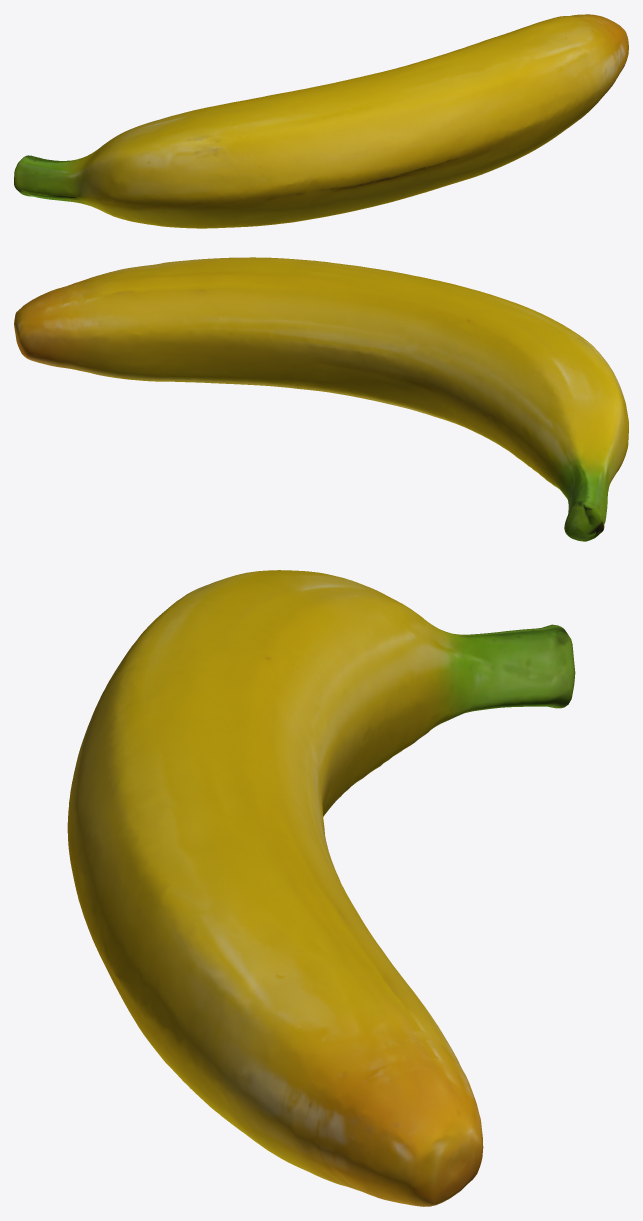
The picture shows the model from 3 angles, top to bottom: view 1: azimuth 30°, elevation 25°; view 2: azimuth 150°, elevation 25°; view 3: azimuth 270°, elevation 25°; orthographic projection. The views are drawn at different scales.
Parts seen in each view (by area): view 1: visual.011; view 2: visual.011; view 3: visual.011.
Part boxes in pixels (x1,y1,x2,y2): visual.011: [14, 14, 628, 228]; visual.011: [14, 257, 628, 541]; visual.011: [67, 570, 575, 1206].
Size of the model in its own units: 0.1967 by 0.0746 by 0.0367.
1 material, 1 textured.
